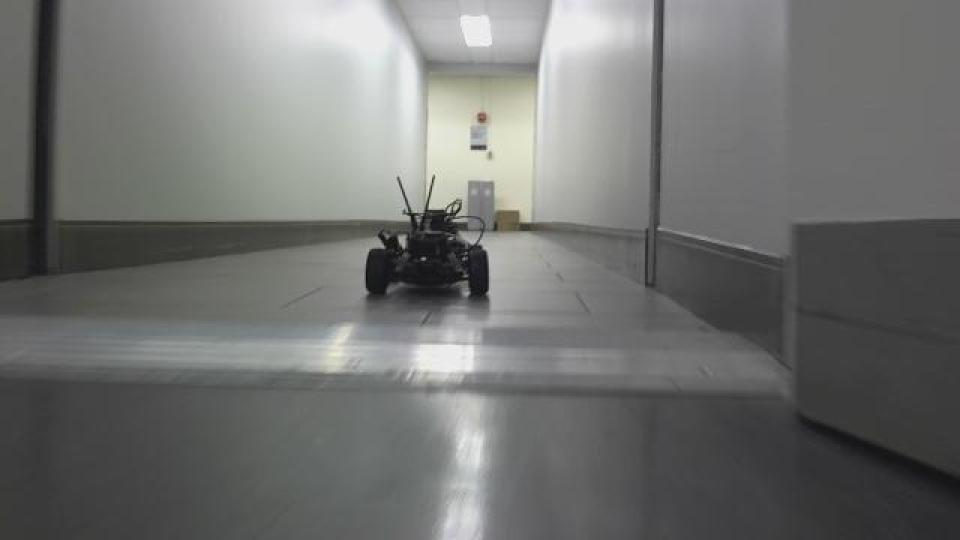car: (360, 171, 492, 301)
